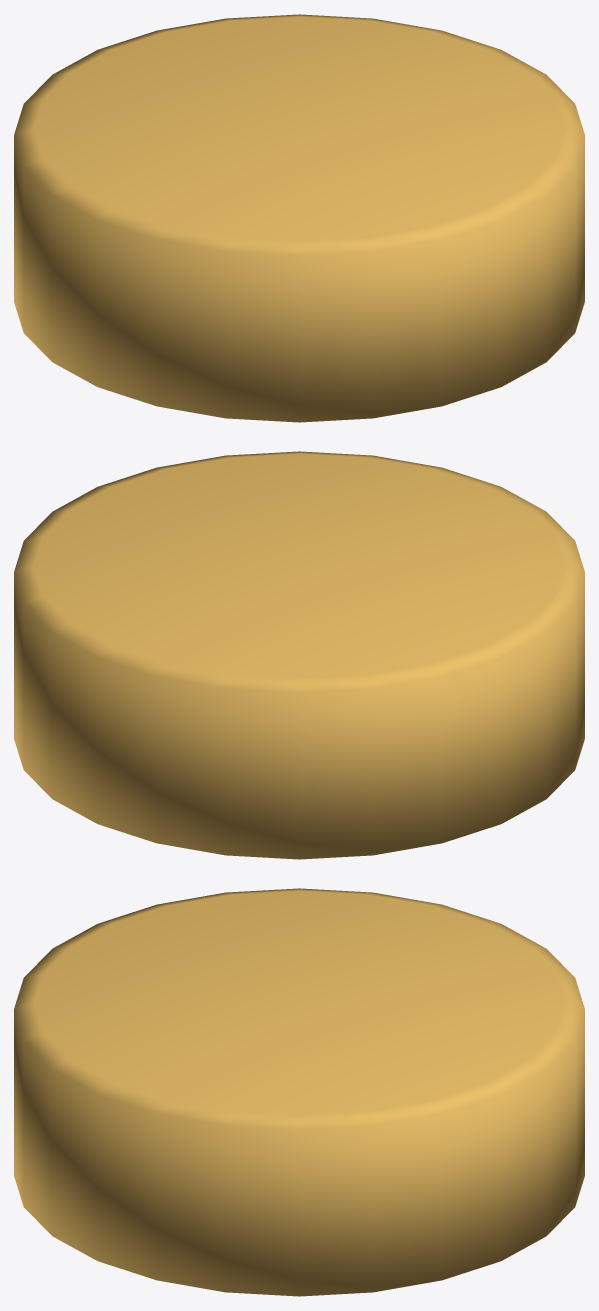
File: FormaFormaggio.fbx
3 renders of one model, top to bottom at view 1: azimuth 30°, elevation 25°; view 2: azimuth 150°, elevation 25°; view 3: azimuth 270°, elevation 25°, orthographic.
Visible parts, largest first — view 1: FormaInteraFormaggio; view 2: FormaInteraFormaggio; view 3: FormaInteraFormaggio.
Part boxes in pixels (box(x1,y1,x2,y2)): FormaInteraFormaggio: box(14, 14, 584, 422); FormaInteraFormaggio: box(14, 451, 584, 859); FormaInteraFormaggio: box(14, 888, 584, 1296).
Bounding box in the file's own units: 779 × 267 × 779.
